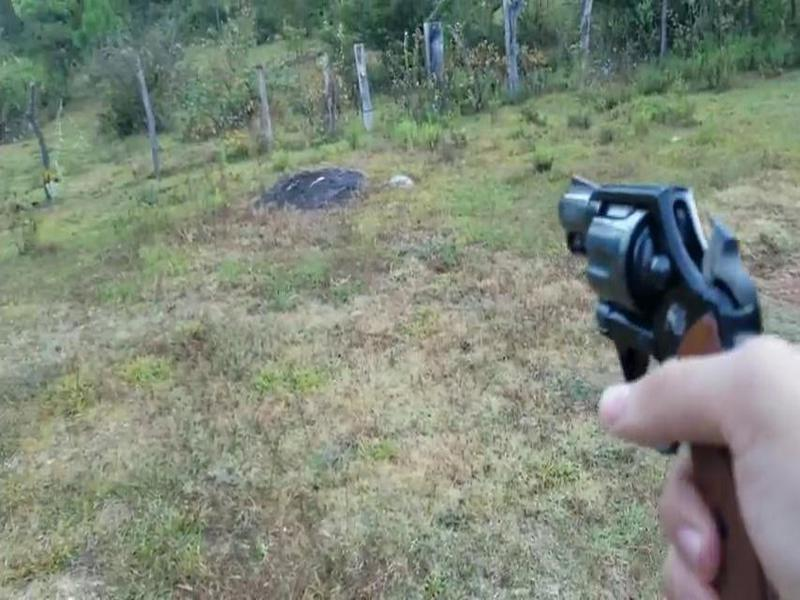Revolver: (515, 168, 771, 536)
